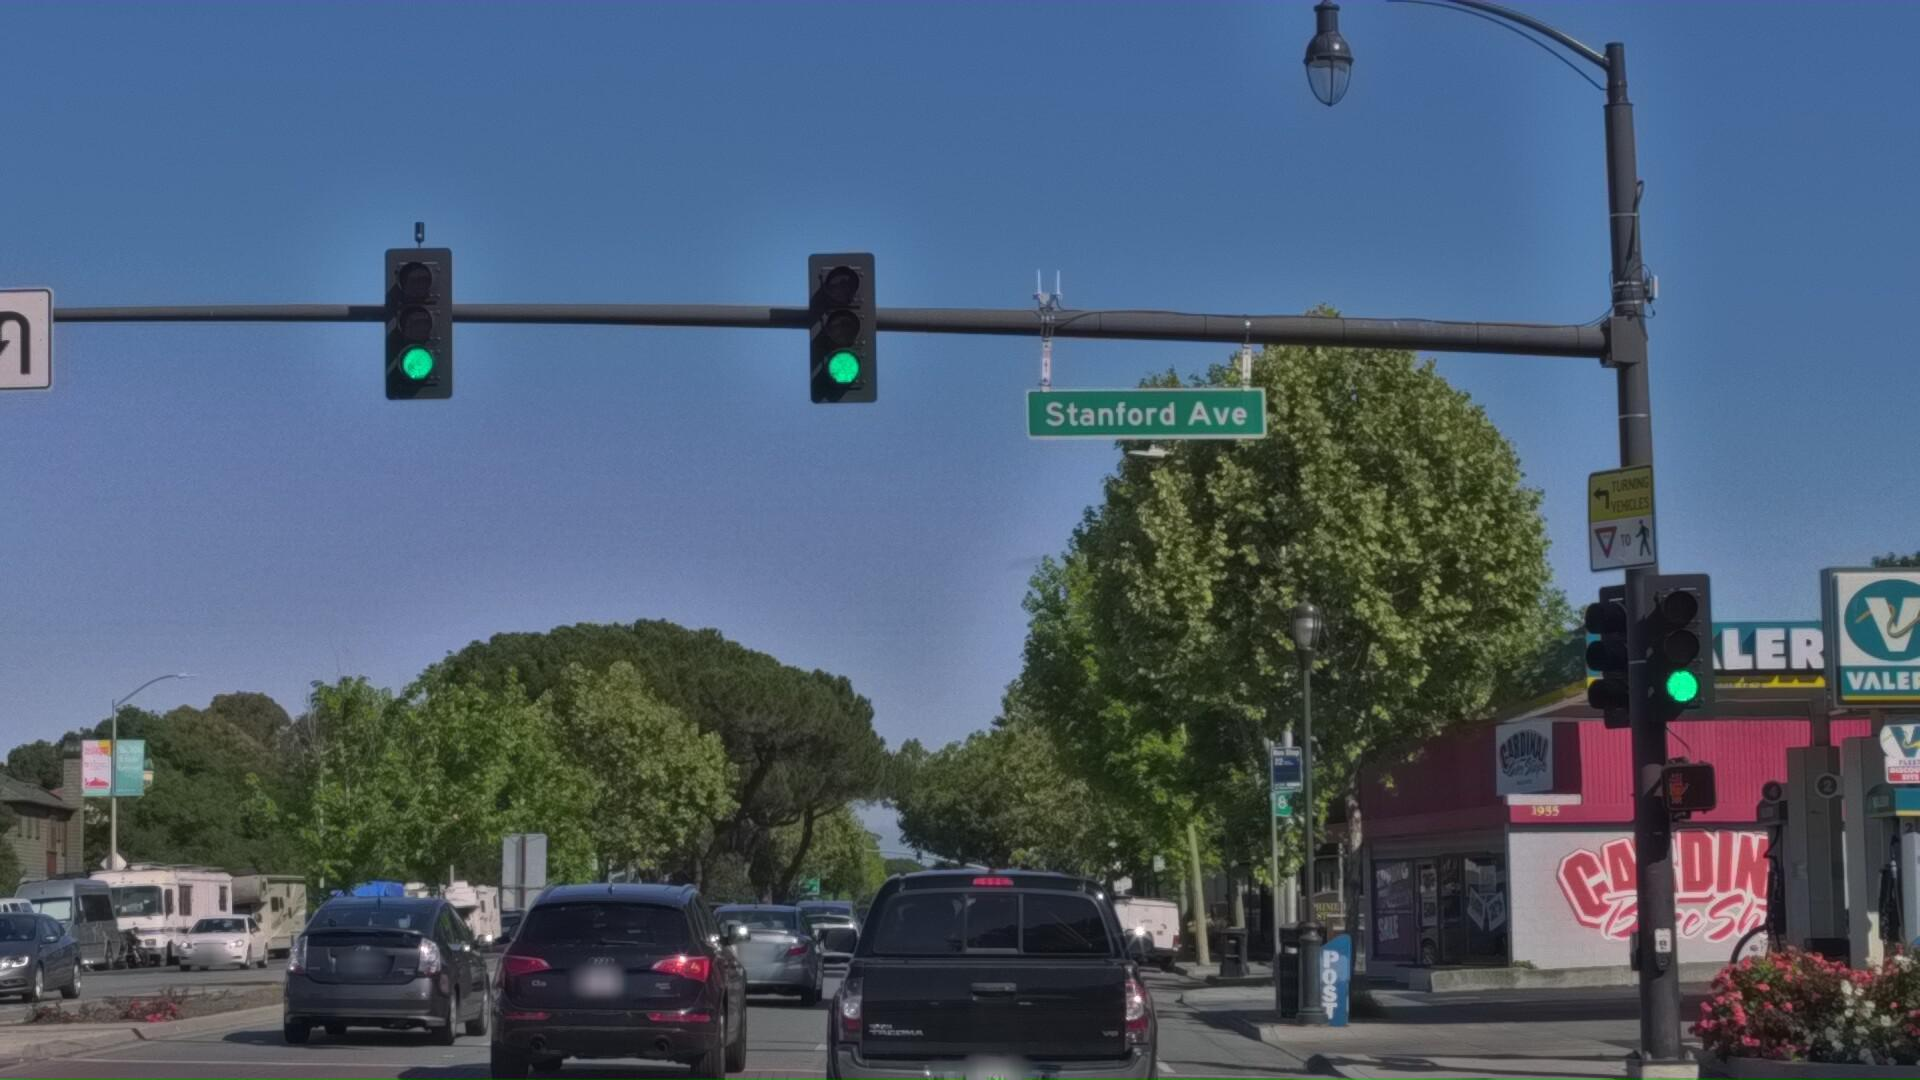car: (827, 934, 1171, 1080), (476, 971, 754, 1080), (276, 975, 506, 1080), (676, 1002, 841, 1080), (0, 986, 104, 1080), (1102, 975, 1191, 1064), (778, 1000, 876, 1080), (0, 563, 15, 1080)
